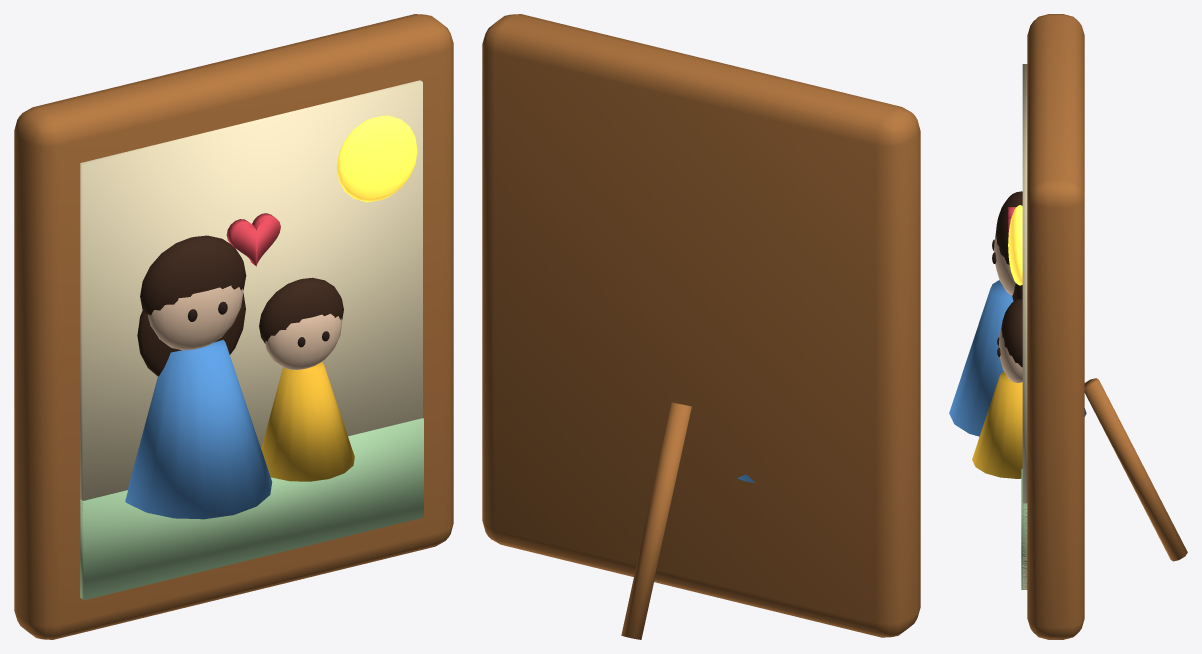
The model's file is d-family.glb.
3 renders of one model, left to right at view 1: azimuth 30°, elevation 25°; view 2: azimuth 150°, elevation 25°; view 3: azimuth 270°, elevation 25°, orthographic. The views are drawn at different scales.
Parts seen in each view (by area): view 1: d-family; view 2: d-family; view 3: d-family.
Boxes of the visible parts, left/top/right/bottom form: d-family: left=14, top=14, right=453, bottom=639; d-family: left=482, top=14, right=920, bottom=639; d-family: left=949, top=14, right=1187, bottom=639.
Size of the model in its own units: 0.1349 by 0.16 by 0.0749.
